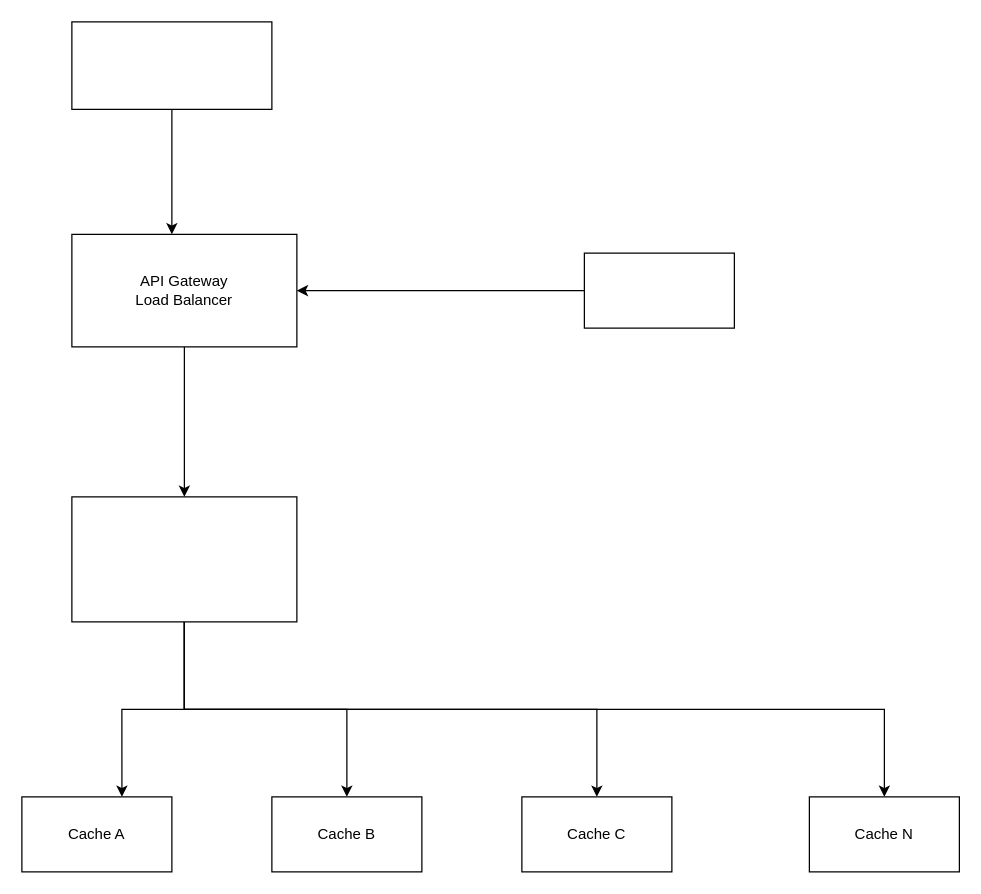
Some shapes in this 981 by 894 pixel diagram are drawn without their labels. Here are the shapes that lost their labels. From the top down, the centre of each, then its label:
At [171,65]: "Client".
At [658,290]: "Monitoring".
At [184,559]: "Coordinator - Hashring - Monitoring - Heartbeat".
